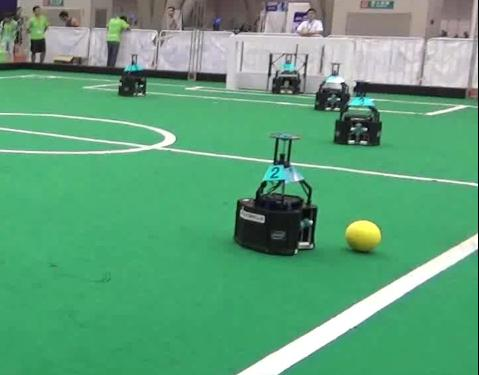robot: (230, 125, 324, 259), (331, 79, 394, 149), (260, 45, 314, 103), (311, 57, 354, 119), (108, 48, 158, 100)
